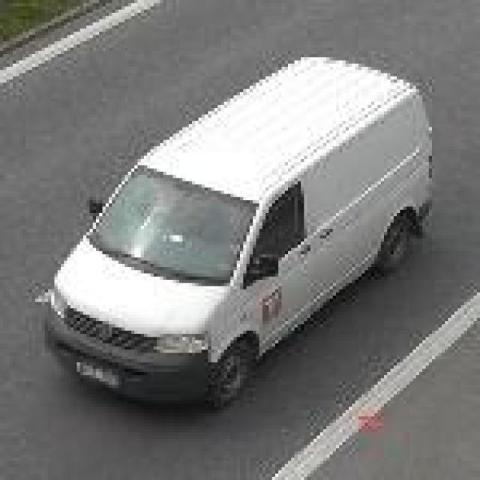van: (46, 56, 434, 406)
